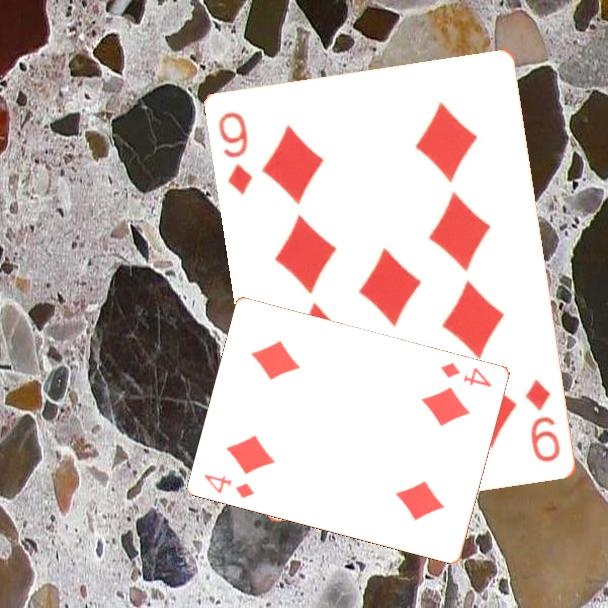d04: (200, 470, 258, 501), (438, 359, 495, 390)
d09: (522, 377, 564, 466), (215, 108, 256, 198)
